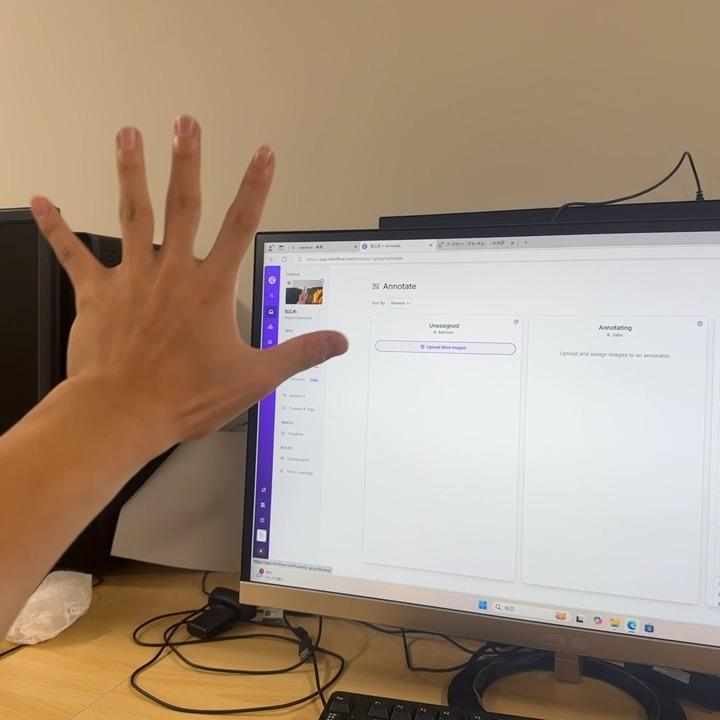without_gloves: (0, 65, 386, 482)
